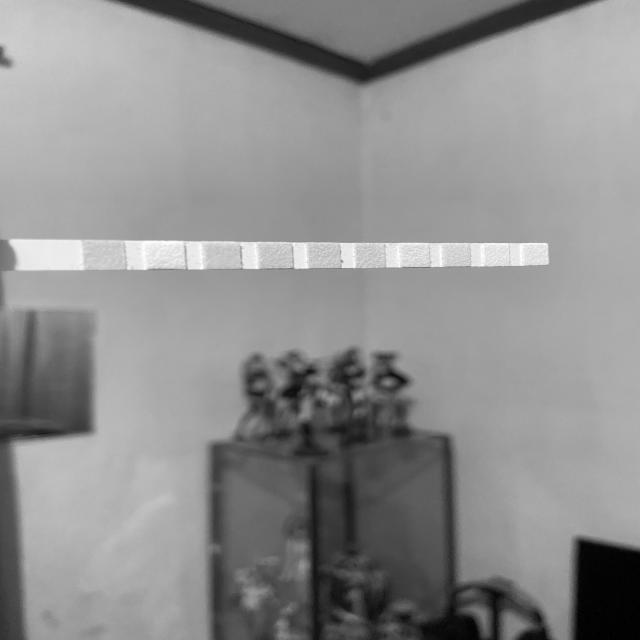Bilirubin: (148, 241, 184, 268)
Blood: (310, 243, 340, 268)
Glucose: (85, 241, 124, 269)
Ketone: (206, 242, 240, 268)
Leukocytes: (523, 244, 547, 265)
Nitrite: (484, 244, 508, 266)
Protein: (402, 243, 428, 267)
SpGravity: (259, 243, 292, 268)
Urobilinogen: (444, 244, 469, 266)
background: (0, 0, 640, 640)
pH: (356, 243, 384, 267)
strip: (0, 240, 549, 270)
